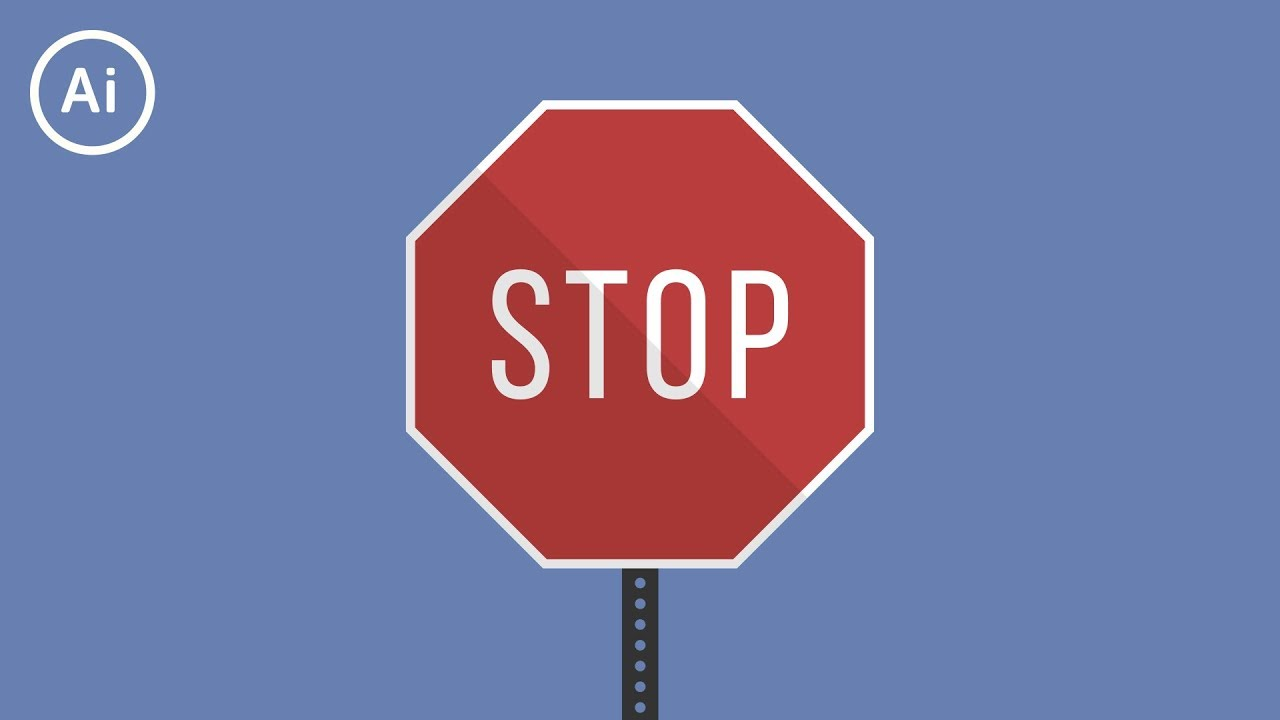stop: (398, 95, 883, 570)
